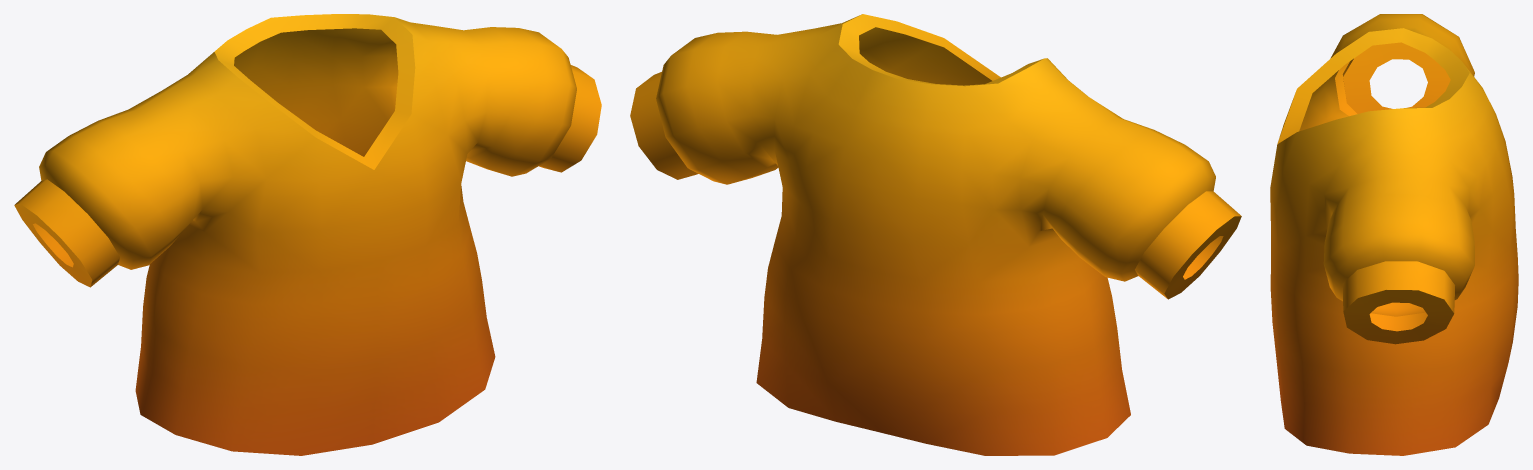
File: Outwear_03.glb
The picture shows the model from 3 angles, left to right: view 1: azimuth 30°, elevation 25°; view 2: azimuth 150°, elevation 25°; view 3: azimuth 270°, elevation 25°; orthographic projection. The views are drawn at different scales.
Parts seen in each view (by area): view 1: Outwear_03; view 2: Outwear_03; view 3: Outwear_03.
Part boxes in pixels (<box>): Outwear_03: <box>14,14,601,455</box>; Outwear_03: <box>630,14,1241,455</box>; Outwear_03: <box>1270,14,1518,455</box>.
Bounding box in the file's own units: 0.4856 × 0.2978 × 0.2013.
Materials: 1 (1 with a texture image).
